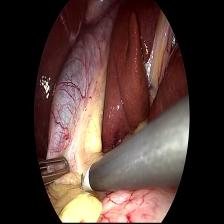Grasper: (34, 154, 73, 189)
Hook: (78, 160, 99, 200)
